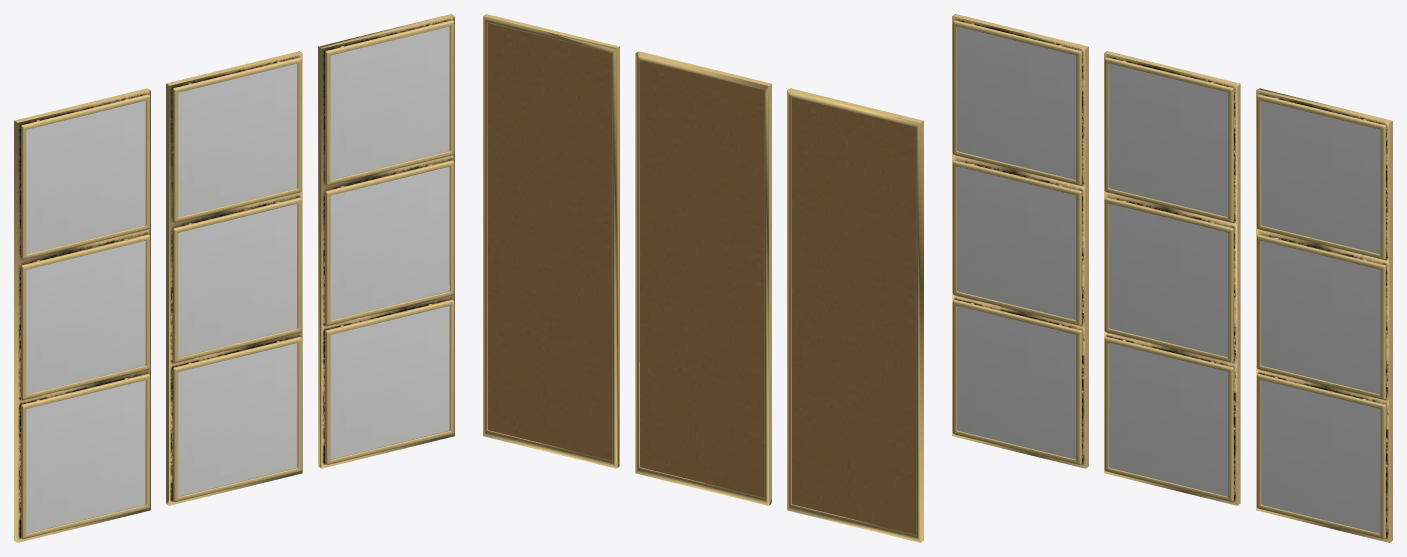
3 renders of one model, left to right at view 1: azimuth 30°, elevation 25°; view 2: azimuth 150°, elevation 25°; view 3: azimuth 330°, elevation 25°, orthographic.
Visible parts, largest first — view 1: RootNode; view 2: RootNode; view 3: RootNode.
Boxes of the visible parts, left/top/right/bottom form: RootNode: left=14, top=14, right=454, bottom=542; RootNode: left=483, top=14, right=923, bottom=542; RootNode: left=952, top=14, right=1392, bottom=542.
Bounding box in the file's own units: 1.01 × 0.9264 × 0.0232.
1 material, 1 textured.
